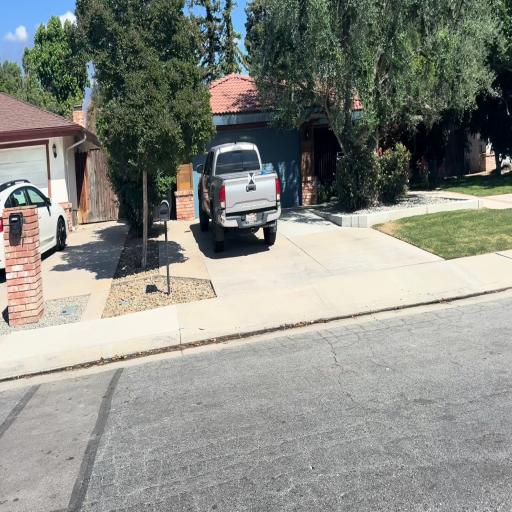target1: (248, 172, 255, 184)
